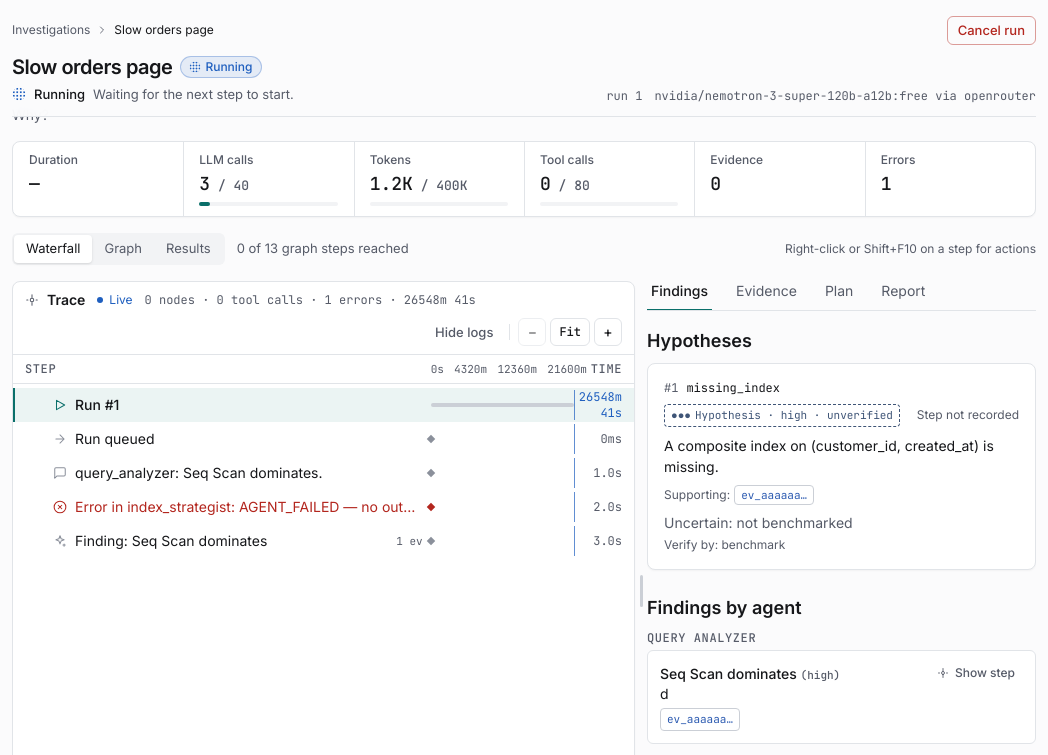
Test: evidence citing a plan this run does not have is reported, and the view stays put
Click the button with aria-label "Evidence ev_aaaaaaaaaaaa": (774, 495) [734,485,814,505]
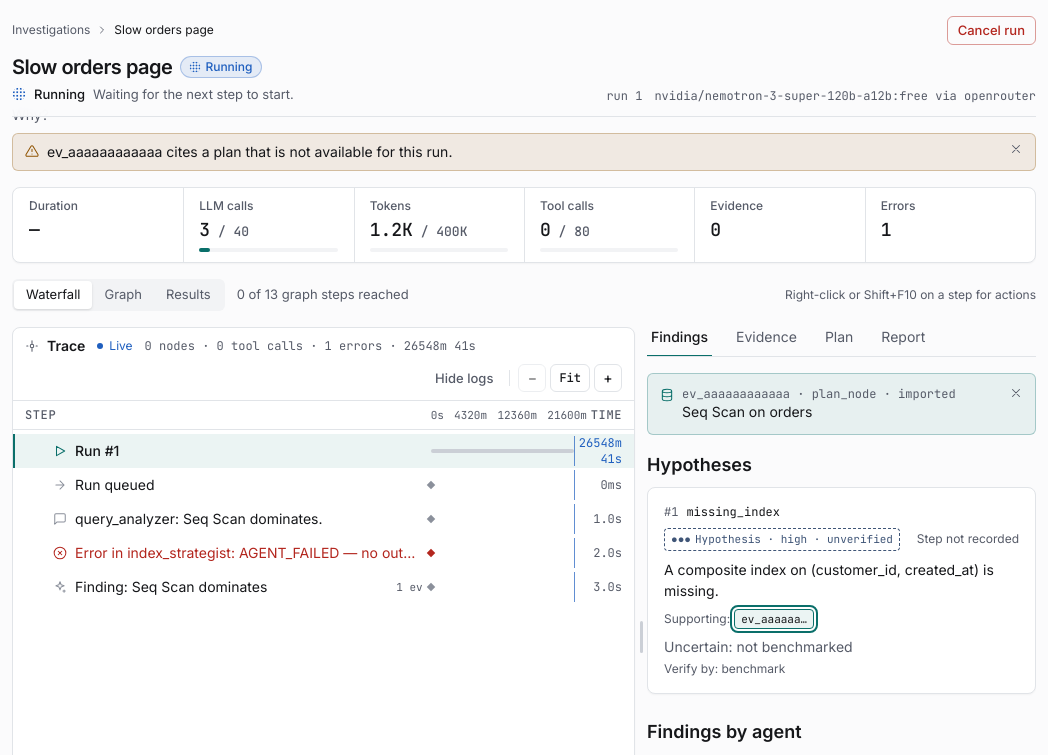
Check: the text "cites a plan that is not available for this run" is shown, box [47,143,452,160]
